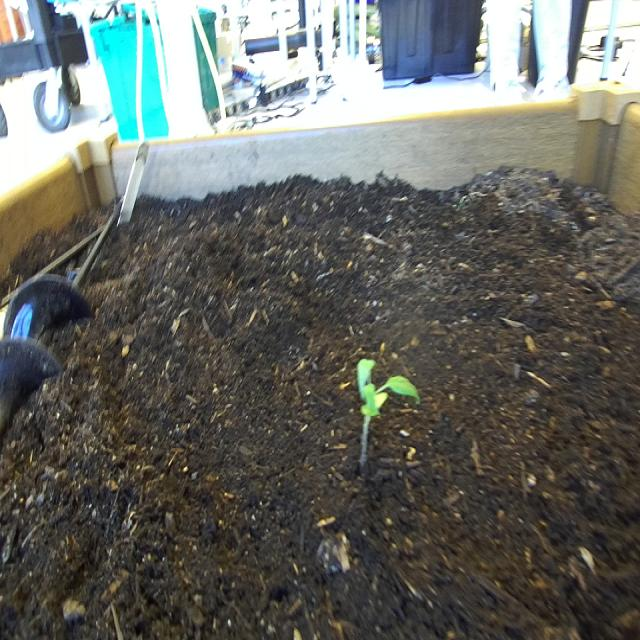Healthy: (345, 341, 428, 485)
